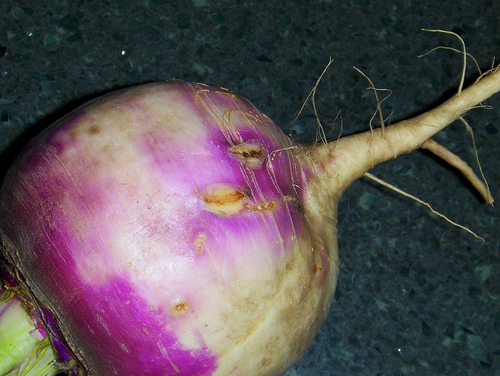turnip: (0, 32, 499, 375)
